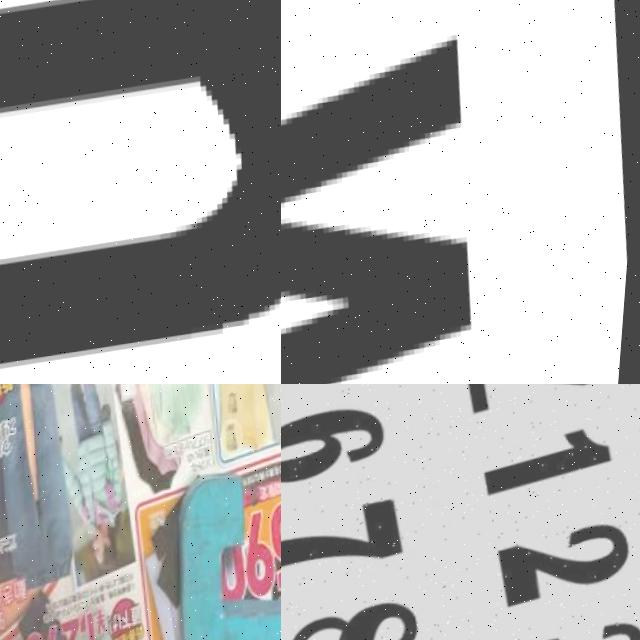1: (453, 410, 640, 518)
2: (482, 504, 640, 622)
3: (499, 607, 640, 640)
6: (281, 386, 413, 499)
7: (281, 486, 433, 601)
8: (281, 582, 463, 640)
J: (162, 462, 281, 640)
N: (0, 0, 281, 384)
W: (281, 20, 540, 384)
